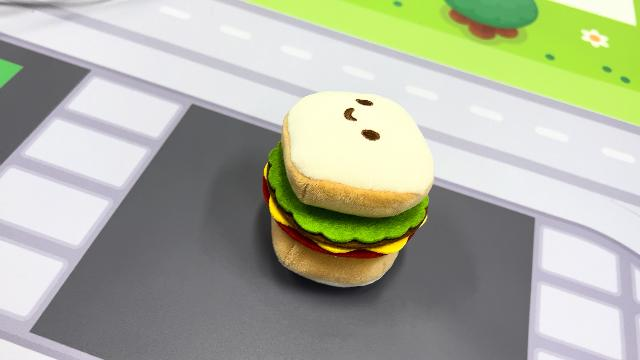sandwich: (259, 87, 436, 289)
